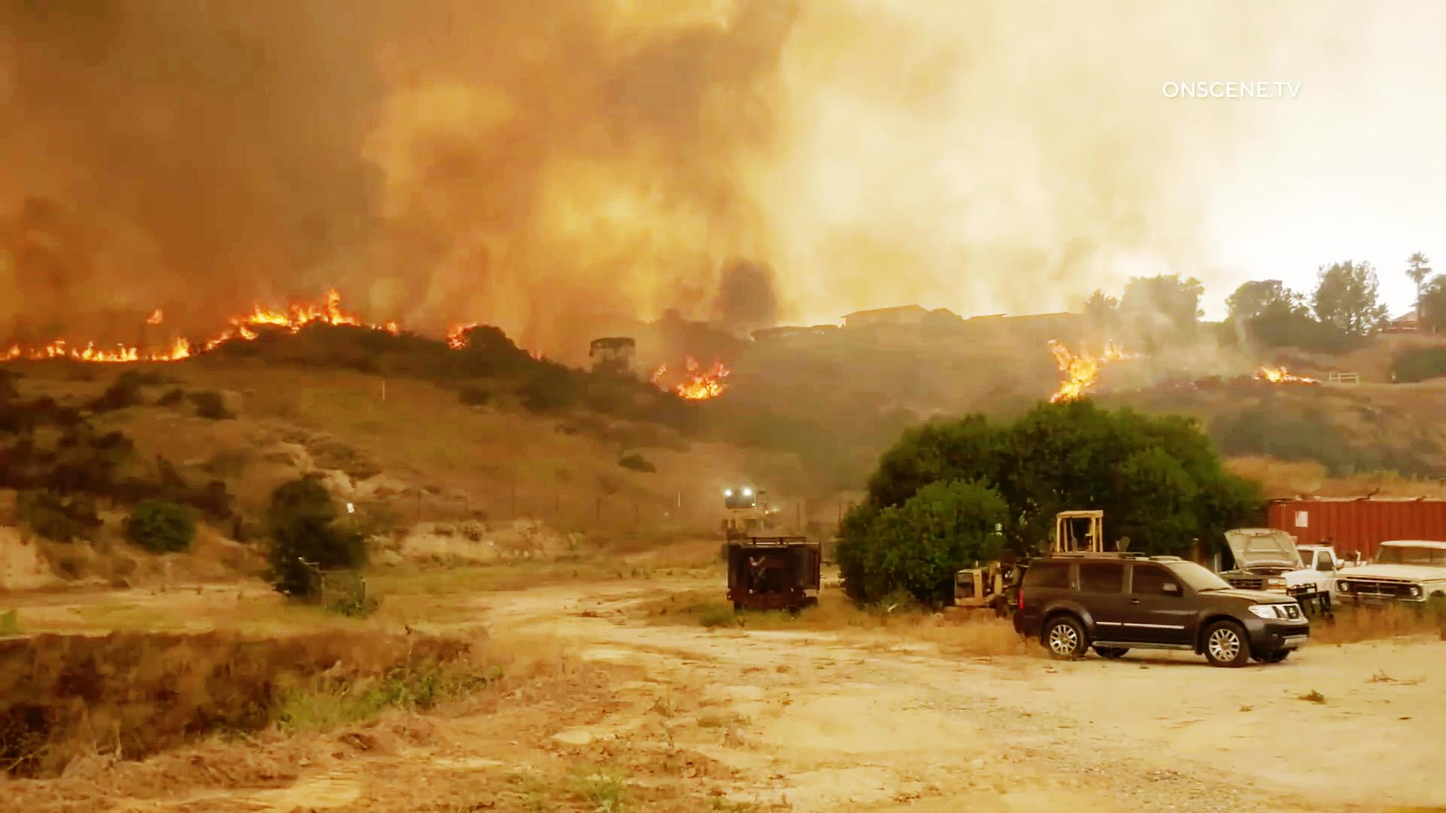fire: (1040, 324, 1124, 420), (648, 343, 725, 405)
